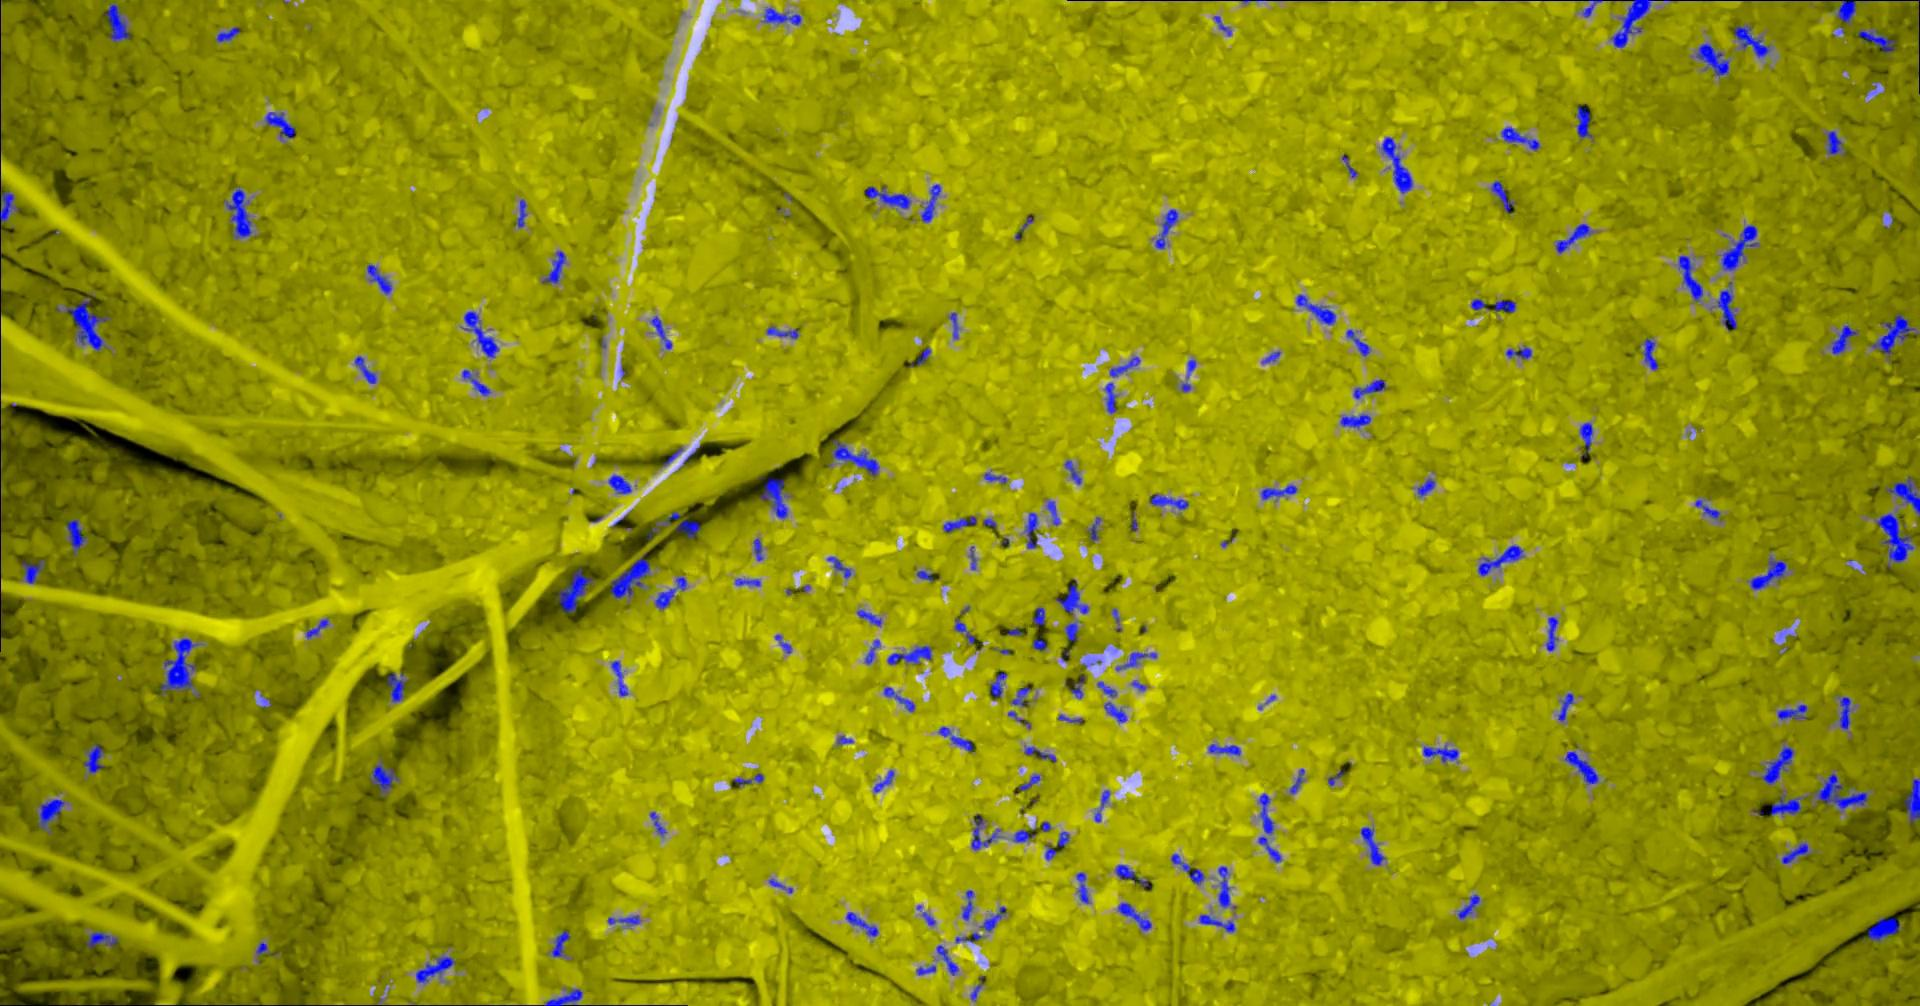ant: (66, 295, 110, 351), (163, 638, 201, 694), (1613, 0, 1655, 47), (1872, 312, 1917, 354), (611, 551, 651, 598), (1816, 774, 1869, 809), (1382, 136, 1415, 193), (1722, 224, 1760, 271), (1878, 513, 1915, 561), (557, 567, 596, 612), (833, 439, 880, 476), (1258, 793, 1283, 862), (463, 311, 500, 357), (648, 511, 702, 540), (1887, 475, 1920, 517), (1479, 545, 1524, 575), (227, 185, 253, 238), (1763, 746, 1796, 784), (1297, 293, 1337, 324), (1735, 24, 1771, 57), (1714, 281, 1738, 330), (1751, 558, 1788, 589), (761, 478, 789, 518), (1697, 43, 1730, 77), (1057, 579, 1090, 614), (1, 185, 22, 240), (1680, 255, 1704, 301), (1566, 751, 1600, 782), (973, 813, 1002, 850), (657, 575, 688, 608), (866, 185, 912, 208), (1557, 224, 1592, 253), (105, 3, 132, 41), (1859, 27, 1897, 53), (1172, 854, 1205, 884), (417, 956, 456, 982), (1119, 902, 1153, 930), (372, 763, 400, 796), (38, 799, 66, 832), (1502, 127, 1542, 150), (1363, 826, 1385, 865), (265, 111, 297, 138), (1156, 210, 1178, 248), (1117, 864, 1153, 888), (889, 645, 933, 664), (847, 911, 880, 936), (1868, 916, 1901, 941), (940, 727, 974, 751), (543, 250, 568, 283), (1832, 325, 1859, 354), (885, 686, 916, 711), (1771, 794, 1807, 815), (67, 518, 88, 555), (651, 315, 673, 349), (368, 263, 392, 293), (923, 184, 942, 222), (1117, 652, 1158, 669), (1493, 180, 1515, 213), (463, 370, 491, 395), (1046, 831, 1070, 860), (938, 944, 960, 976), (1905, 779, 1920, 823), (1837, 0, 1867, 23), (356, 354, 378, 384), (1111, 356, 1142, 377), (1200, 915, 1237, 932), (1150, 493, 1190, 509), (982, 906, 1007, 931), (764, 8, 803, 24), (1355, 379, 1388, 398), (546, 988, 584, 1005), (1349, 329, 1371, 356), (943, 514, 978, 532), (1423, 746, 1460, 762), (85, 743, 105, 772), (389, 672, 408, 701), (23, 559, 46, 583), (828, 556, 853, 578), (1262, 484, 1298, 499), (1783, 842, 1810, 862), (88, 931, 119, 948), (613, 661, 629, 695), (1459, 894, 1481, 918), (956, 617, 977, 643), (552, 930, 571, 956), (1577, 105, 1592, 138), (1697, 499, 1721, 520), (875, 768, 895, 793), (1096, 789, 1111, 821), (1026, 746, 1057, 761), (734, 772, 764, 788), (1219, 866, 1230, 907), (1644, 337, 1658, 370), (1016, 216, 1035, 240), (1581, 422, 1594, 457), (1547, 616, 1559, 652), (1559, 692, 1575, 721), (1779, 704, 1808, 719), (1106, 701, 1128, 721), (610, 474, 632, 493), (1065, 460, 1083, 484), (992, 672, 1008, 697), (910, 347, 932, 366), (309, 619, 330, 638), (1342, 414, 1371, 428), (1027, 512, 1039, 547), (858, 608, 883, 625), (866, 639, 883, 663), (1070, 674, 1087, 699), (651, 810, 668, 835), (1013, 686, 1032, 706), (1018, 774, 1041, 790), (963, 890, 975, 920), (217, 25, 241, 41), (1829, 130, 1844, 154), (770, 878, 794, 893), (768, 326, 800, 338), (1210, 743, 1242, 754), (1215, 15, 1233, 36), (971, 976, 985, 1001), (1106, 382, 1117, 413), (1078, 873, 1090, 903), (1048, 500, 1062, 525), (1291, 768, 1305, 793), (1583, 0, 1604, 17), (1841, 696, 1851, 729), (1507, 345, 1533, 358), (1090, 516, 1102, 541), (517, 199, 528, 227), (1495, 298, 1517, 312), (1015, 828, 1037, 842), (1418, 478, 1436, 495), (776, 634, 792, 653), (1098, 681, 1117, 697), (1343, 155, 1357, 177), (610, 915, 641, 923), (1067, 620, 1079, 641), (957, 932, 984, 942), (1330, 770, 1346, 785), (985, 473, 1008, 483), (1263, 351, 1281, 363), (1034, 607, 1046, 625), (1472, 298, 1491, 309), (951, 312, 959, 338), (737, 578, 762, 586), (918, 965, 937, 976), (756, 539, 764, 560), (1034, 638, 1048, 650), (918, 570, 935, 580)
